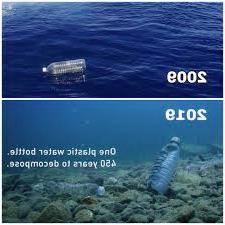Plastic: (142, 130, 187, 200), (32, 53, 96, 81)
